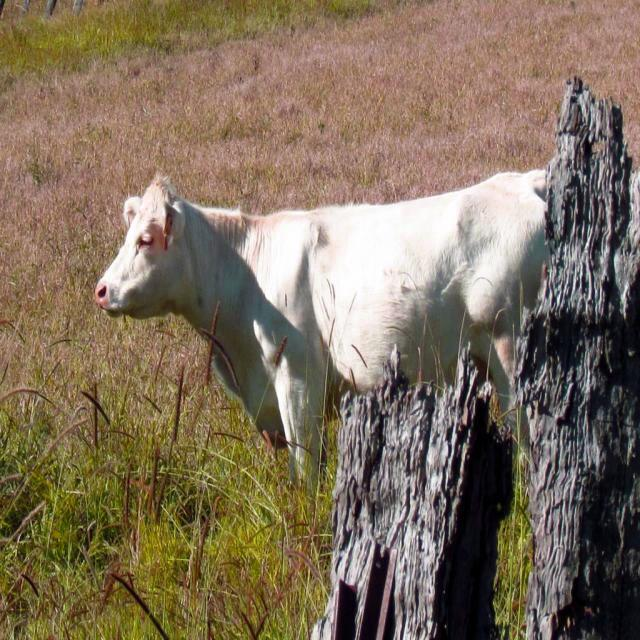cow: (96, 170, 546, 482)
